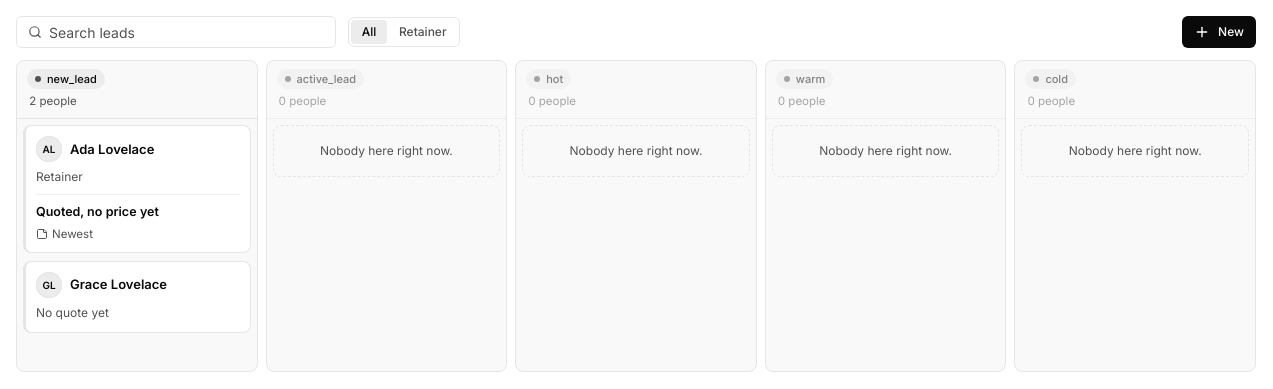
Test: the board › shows each card’s newest note, and narrows to a quoted service
The image size is (1273, 389).
Expected: the text "Newest" is shown, [52, 226, 93, 242]
Expected: the text "Grace Lovelace" is shown, [70, 275, 167, 295]
Click the radio button labelled "Retainer". click: click(423, 32)
box: [389, 20, 457, 44]
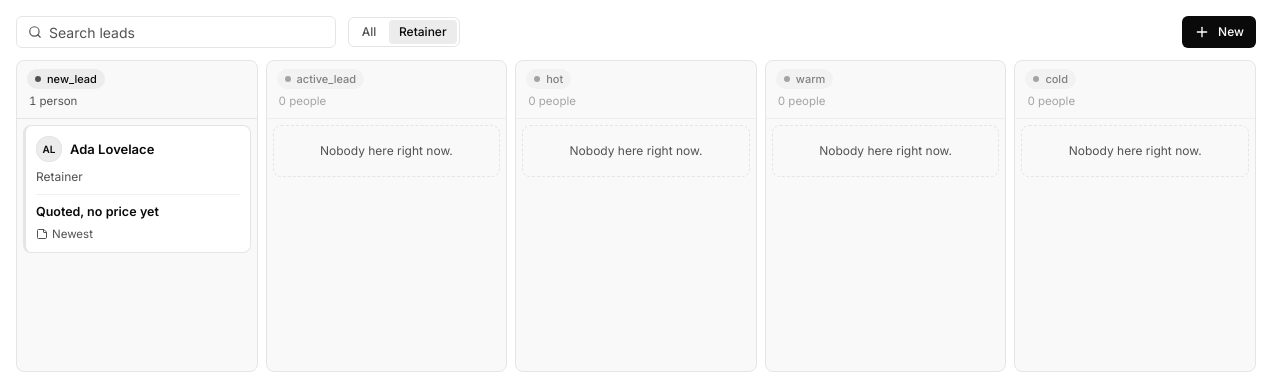
Expected: the text "Ada Lovelace" is shown, [70, 140, 154, 159]
Result: the button "Grace Lovelace" is gone
